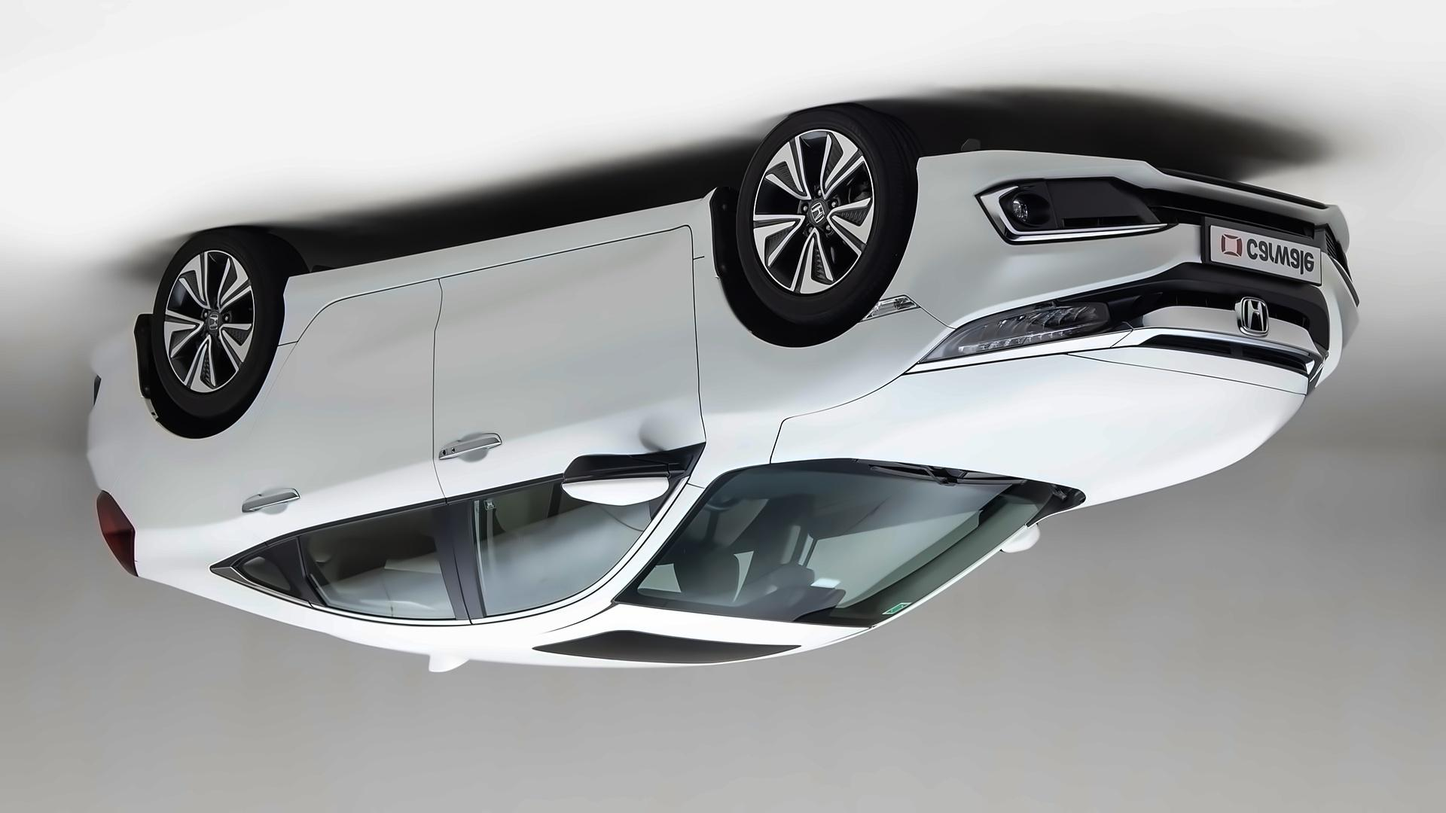Car hood: (761, 339, 1336, 512)
Fender - -F-L-: (686, 191, 952, 500)
Fender - -R-L-: (135, 276, 289, 564)
Front bumper: (904, 138, 1377, 316)
Headlight - -L-: (907, 264, 1165, 382)
Headlight - -R-: (1281, 342, 1349, 405)
Passenger-s door - -F-L-: (430, 218, 699, 651)
Passenger-s door - -R-L-: (211, 264, 457, 644)
Rear bumper: (71, 306, 183, 459)
Rear light - -L-: (83, 472, 158, 592)
Side bumper - -L-: (254, 183, 722, 355)
Side mirror - -L-: (555, 447, 669, 519)
Side mirror - -R-: (984, 512, 1048, 596)
